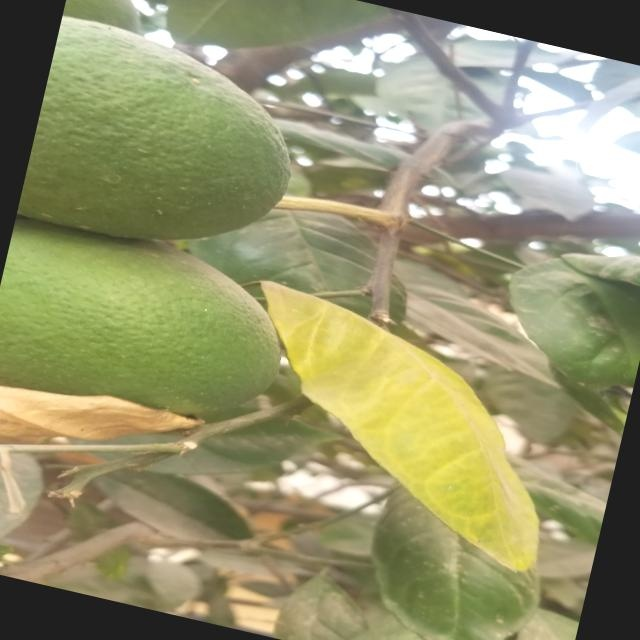agrume: (13, 11, 317, 286), (0, 205, 288, 474)
